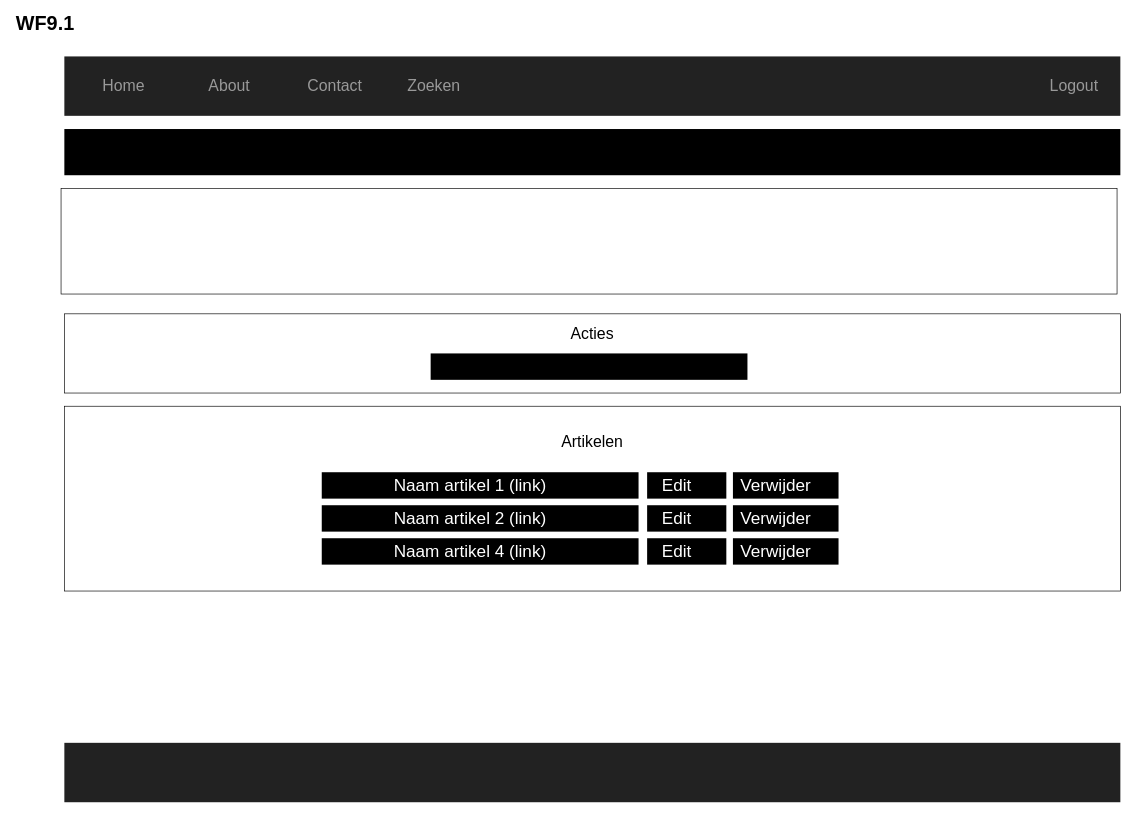
Image size: 1132x813. Some labels were removed from this diagram. Each missing label, with the centre of its shape:
"Beschrijving auteur" belongs at (x=588, y=241).
"Footer tekst" belongs at (x=592, y=772).
"Paginatitel auteurnaam" belongs at (x=592, y=152).
"Voeg artikel toe" belongs at (x=588, y=366).
